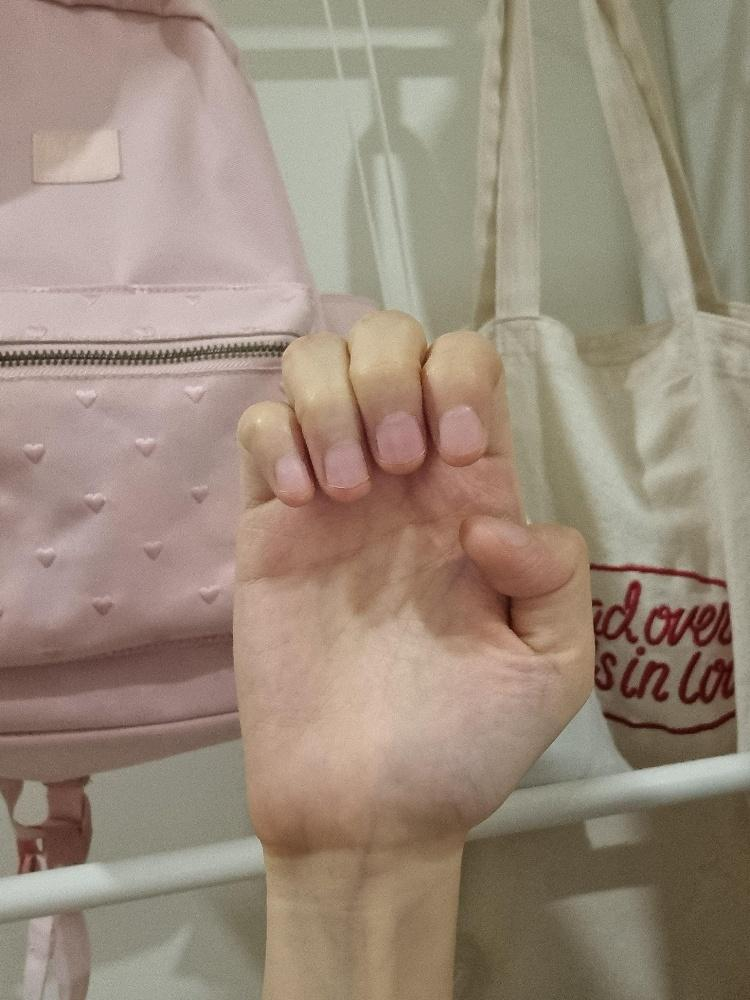e: (226, 308, 598, 865)
